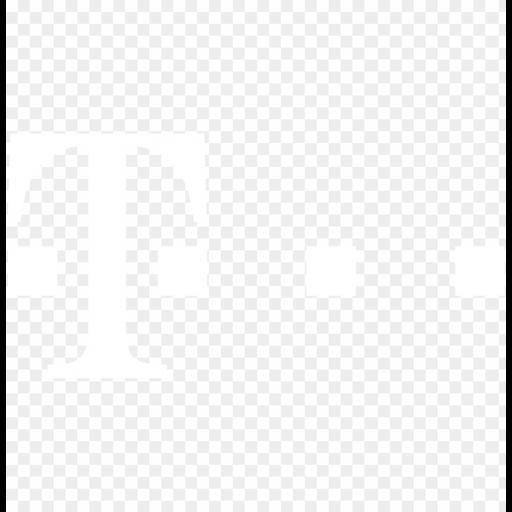Deutsche Telekom: (6, 0, 506, 512)
